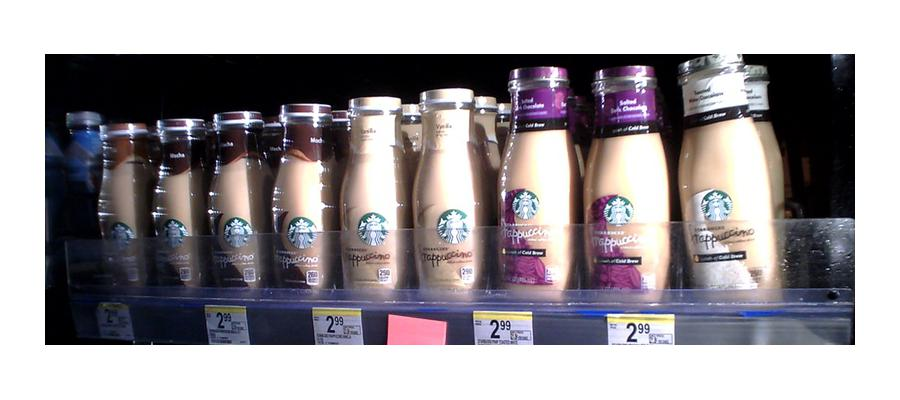bottle: (677, 56, 783, 304), (587, 62, 673, 307), (497, 63, 582, 301), (413, 86, 487, 303), (338, 94, 408, 303), (267, 101, 334, 300), (204, 110, 266, 301), (147, 116, 205, 299), (98, 117, 151, 307)
